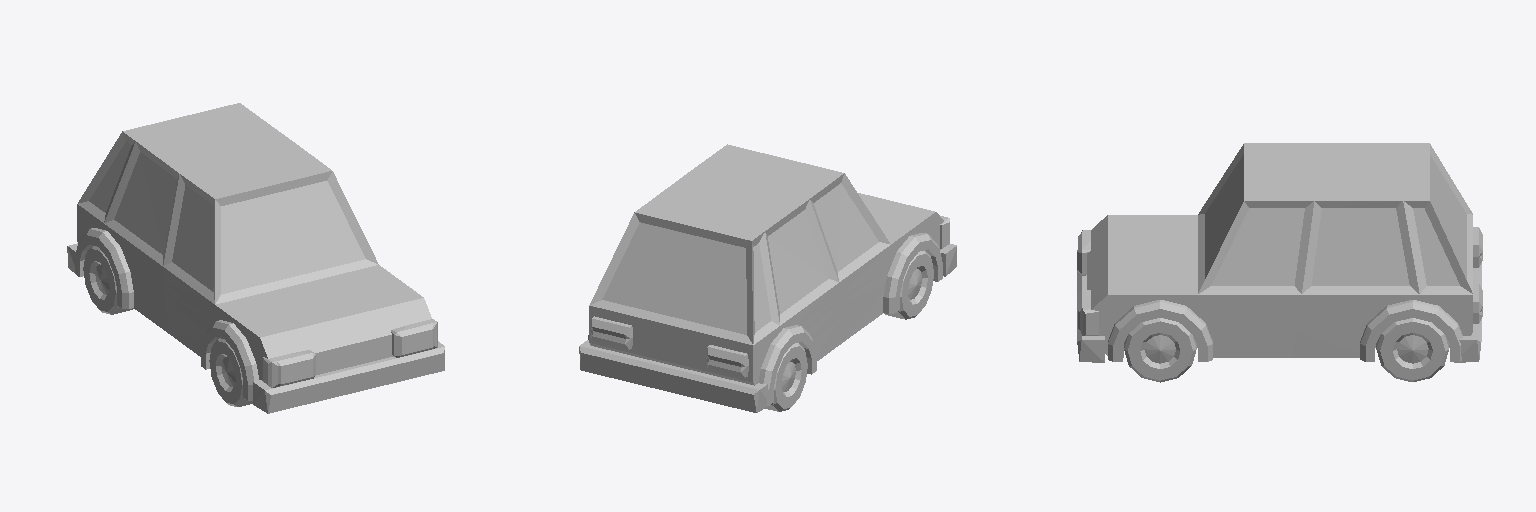
File: Car Hatchback.obj
3 renders of one model, left to right at view 1: azimuth 30°, elevation 25°; view 2: azimuth 150°, elevation 25°; view 3: azimuth 270°, elevation 25°, orthographic.
Visible parts, largest first — view 1: obj1, obj5, obj4; view 2: obj1, obj4, obj5; view 3: obj1, obj2, obj3.
Boxes of the visible parts, box(x1,y1,x2,y2) form: obj1: box(67, 103, 444, 413); obj5: box(83, 246, 133, 314); obj4: box(209, 338, 252, 406); obj1: box(579, 144, 956, 412); obj4: box(884, 250, 933, 319); obj5: box(765, 343, 807, 411); obj1: box(1077, 143, 1482, 362); obj2: box(1124, 318, 1196, 382); obj3: box(1376, 318, 1448, 381).
Bounding box in the file's own units: 0.419 × 0.3688 × 0.8061.